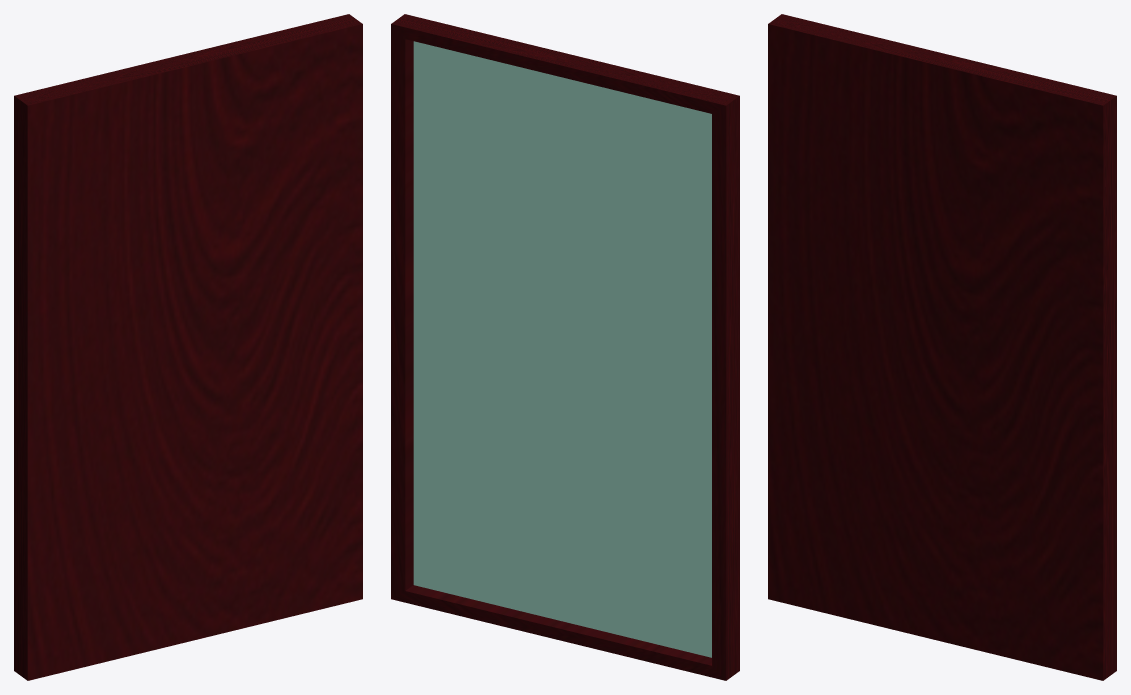
File: mirror2.obj
The picture shows the model from 3 angles, left to right: view 1: azimuth 30°, elevation 25°; view 2: azimuth 150°, elevation 25°; view 3: azimuth 330°, elevation 25°; orthographic projection.
Parts seen in each view (by area): view 1: Cube.003_Cube.004; view 2: Cube.003_Cube.004; view 3: Cube.003_Cube.004.
Boxes of the visible parts, box(x1,y1,x2,y2) form: Cube.003_Cube.004: box(14, 14, 362, 680); Cube.003_Cube.004: box(391, 14, 739, 680); Cube.003_Cube.004: box(768, 14, 1116, 680).
Bounding box in the file's own units: 22.24 × 36.48 × 1.57.
2 materials, 2 textured.
